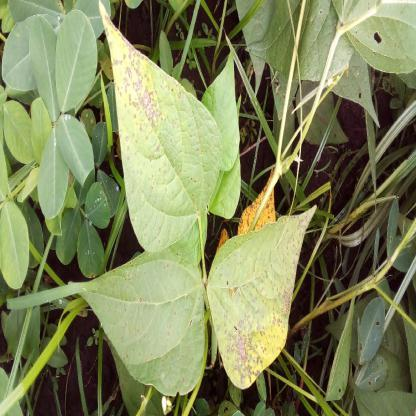Beans_Angular_LeafSpot: (92, 0, 220, 252), (197, 208, 322, 384)
